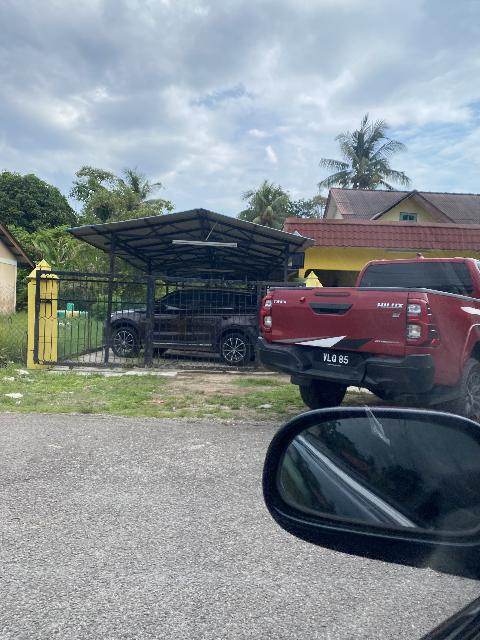License_Plate: (313, 350, 360, 373)
car: (249, 248, 480, 427)
